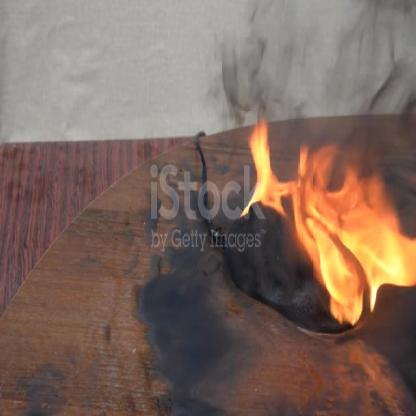fire: (238, 114, 416, 326)
smoke: (217, 0, 416, 229)
